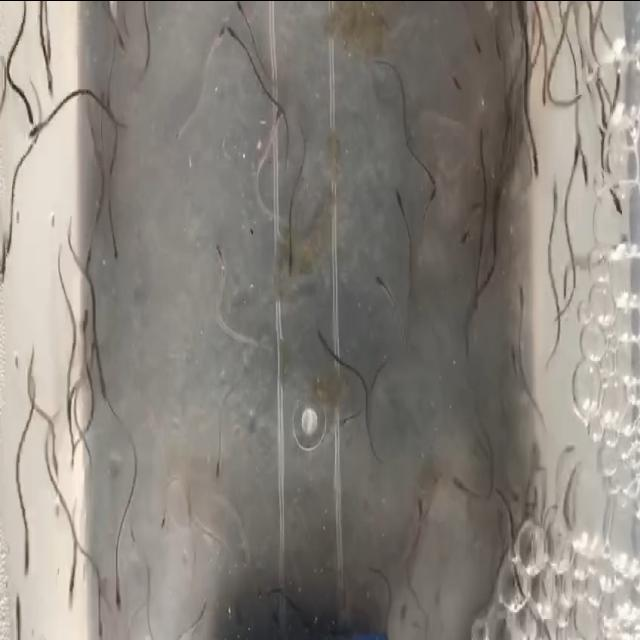active_glass_eel: (369, 268, 392, 302), (106, 230, 122, 278), (158, 493, 172, 545), (488, 34, 508, 70), (562, 138, 583, 172), (312, 320, 334, 352), (418, 154, 438, 188), (114, 15, 128, 63), (542, 434, 556, 482), (466, 22, 484, 58), (212, 12, 228, 52), (530, 148, 546, 188), (557, 259, 569, 312), (592, 97, 610, 132), (282, 245, 300, 279), (82, 229, 98, 267), (558, 428, 574, 466), (448, 470, 468, 500), (25, 81, 36, 135), (389, 188, 410, 216), (43, 56, 57, 98), (9, 589, 25, 625), (608, 190, 624, 224), (514, 279, 530, 313), (252, 568, 266, 606), (79, 301, 91, 345), (210, 239, 226, 272), (3, 224, 16, 264), (550, 170, 564, 207), (223, 20, 240, 50), (97, 366, 109, 408), (108, 582, 122, 618), (411, 487, 428, 516), (63, 436, 79, 466), (334, 408, 354, 432), (424, 185, 444, 209), (471, 276, 485, 310), (96, 86, 108, 124), (268, 98, 282, 130), (66, 568, 76, 612), (447, 70, 463, 96), (51, 449, 62, 483), (95, 612, 108, 640), (28, 114, 42, 140), (580, 153, 590, 189), (230, 0, 246, 22), (21, 552, 33, 579), (213, 460, 224, 486)
